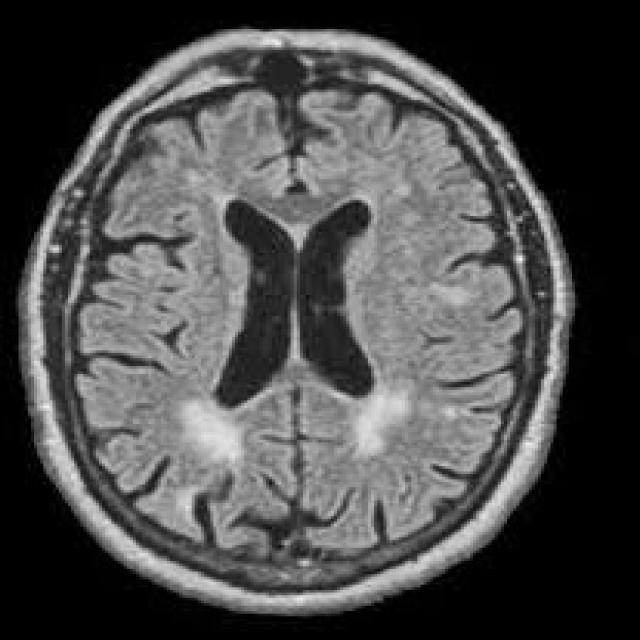notumor: (19, 29, 572, 611)
